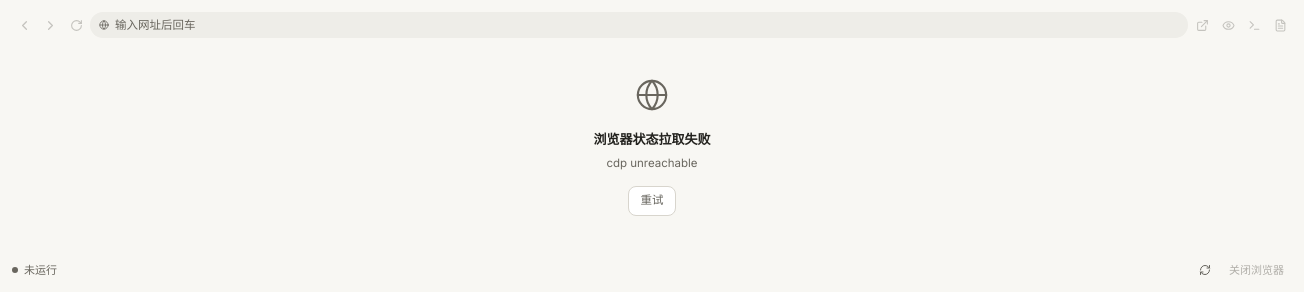
Test: BrowserPanel › surfaces IPC errors and lets the user retry
The width and height of the screenshot is (1304, 292).
Expected: the text "浏览器状态拉取失败" is shown, [594,130,710,149]
Expected: the text "cdp unreachable" is shown, [606,155,698,172]
Click the button "重试": click(652, 201) [628,186,676,216]
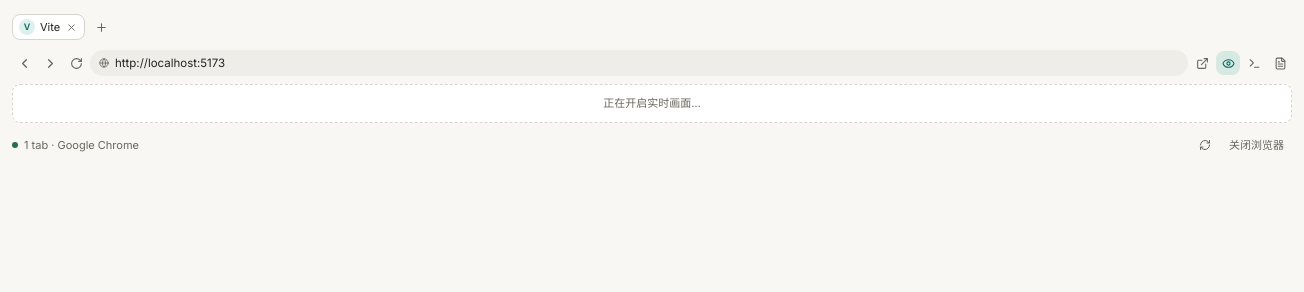
Now the text "Vite" is shown, box [40,19,60,35]
